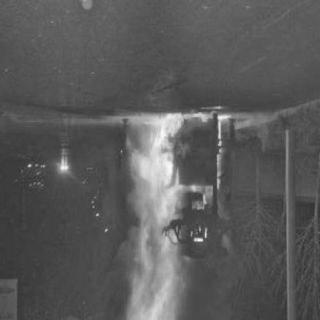Fire: (101, 110, 231, 318)
other: (56, 162, 70, 176)
